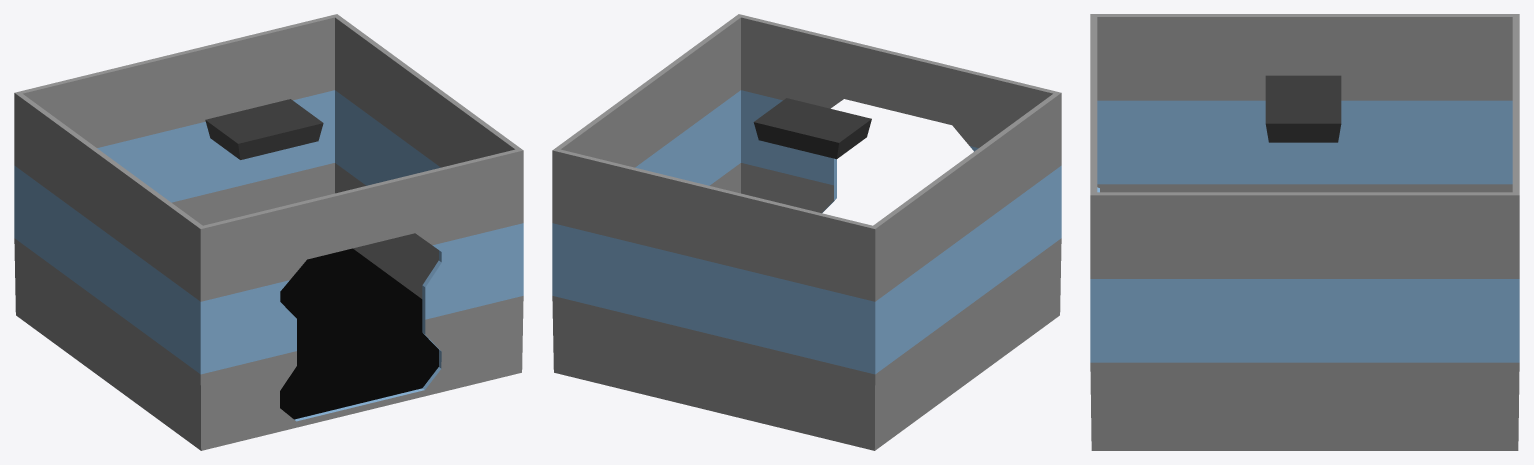
Rendered from Segap 01 04.fbx.
3 renders of one model, left to right at view 1: azimuth 30°, elevation 25°; view 2: azimuth 150°, elevation 25°; view 3: azimuth 270°, elevation 25°, orthographic. The views are drawn at different scales.
Parts seen in each view (by area): view 1: Plane, Cube.023; view 2: Plane, Cube.023; view 3: Plane, Cube.023.
Boxes of the visible parts, <box> form: Plane: <box>14,14,523,450</box>; Cube.023: <box>205,99,323,159</box>; Plane: <box>552,14,1061,450</box>; Cube.023: <box>753,98,871,159</box>; Plane: <box>1090,14,1519,450</box>; Cube.023: <box>1265,75,1341,142</box>.
Size of the model in its own units: 620 by 412 by 620.
